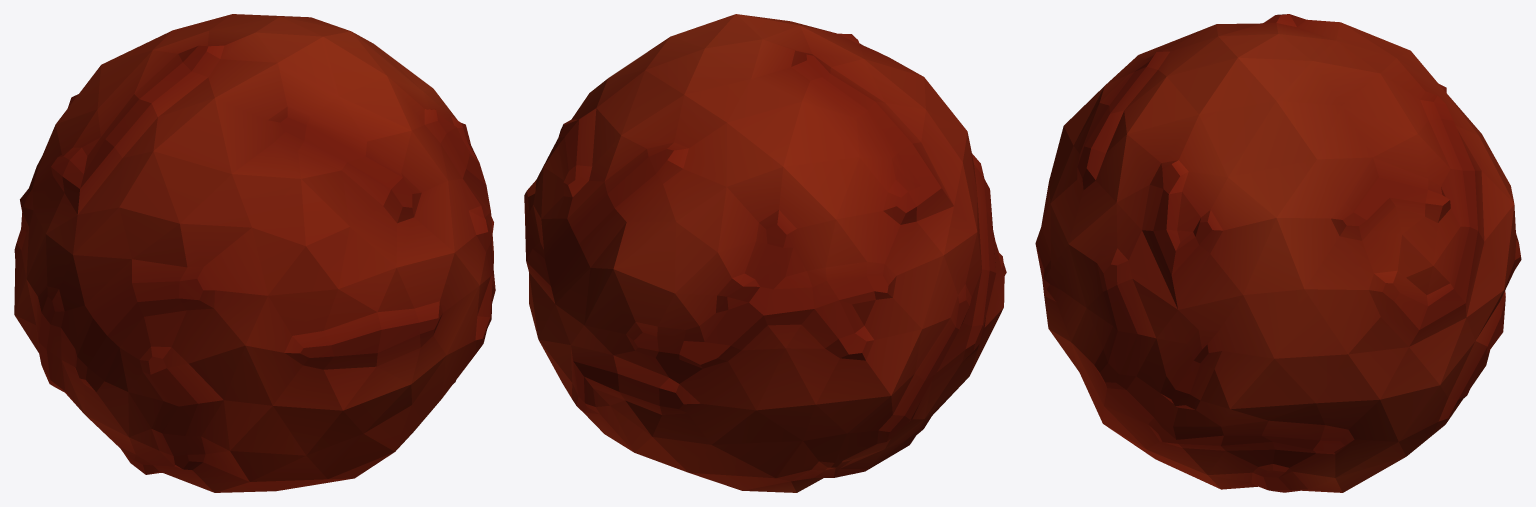
File: Mars.fbx
3 renders of one model, left to right at view 1: azimuth 30°, elevation 25°; view 2: azimuth 150°, elevation 25°; view 3: azimuth 270°, elevation 25°, orthographic.
Parts seen in each view (by area): view 1: Mars; view 2: Mars; view 3: Mars.
Part boxes in pixels (left/top/right/bottom): Mars: left=14, top=14, right=495, bottom=492; Mars: left=524, top=14, right=1006, bottom=492; Mars: left=1035, top=14, right=1521, bottom=492.
Size of the model in its own units: 6.03 by 6 by 6.08.
